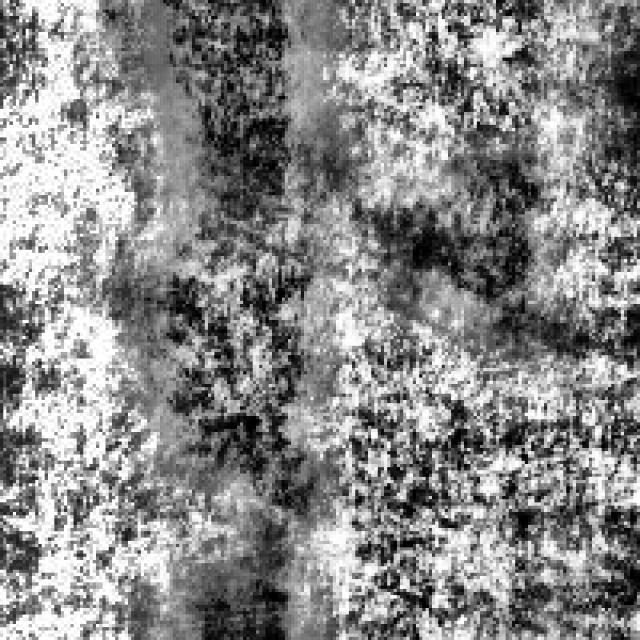Scratches: (131, 0, 342, 246), (368, 148, 582, 342), (156, 368, 308, 637)
